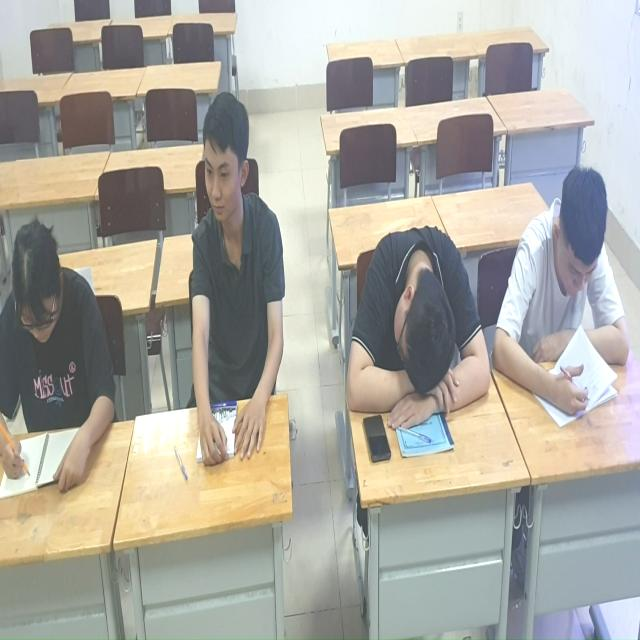read: (173, 96, 299, 468), (497, 155, 633, 422), (1, 215, 123, 499)
sleep: (340, 206, 489, 435)
